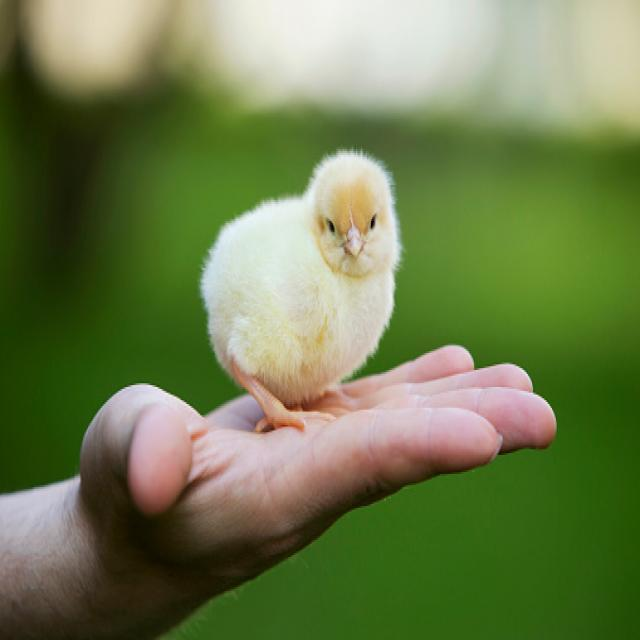poussin: (201, 150, 409, 441)
